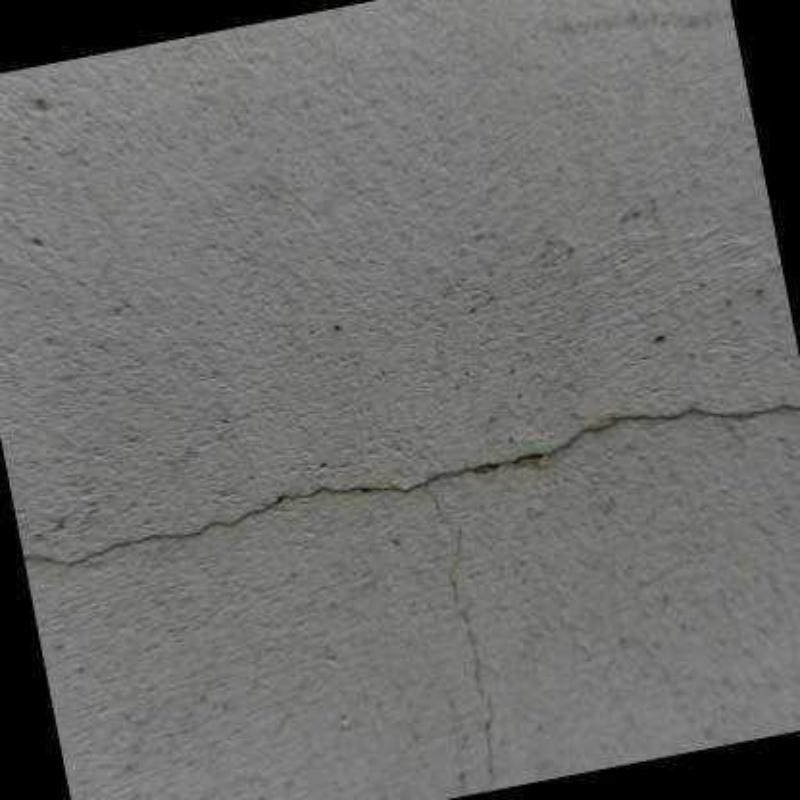crack: (22, 401, 798, 566), (425, 490, 496, 777)
